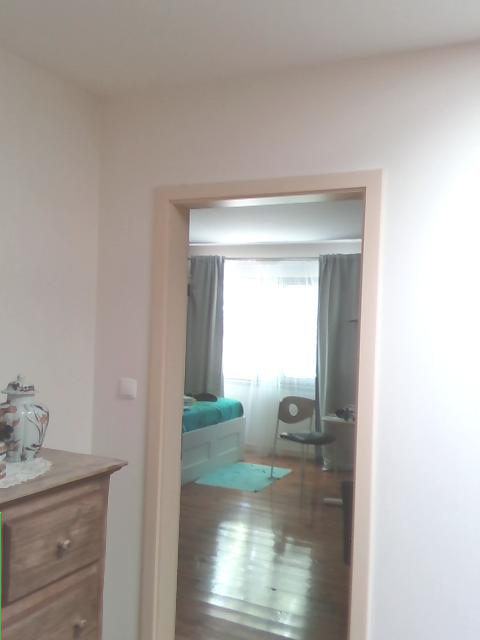open_door: (139, 167, 383, 638)
